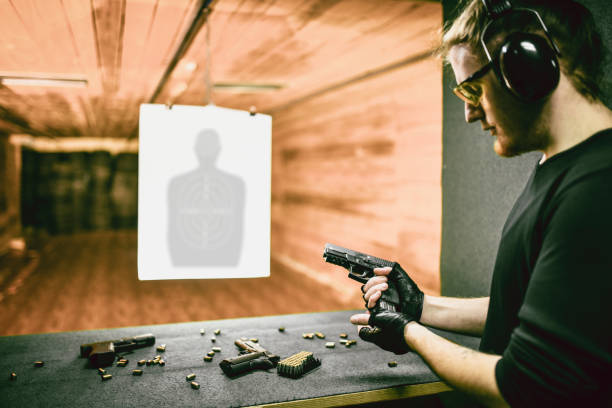gun: (321, 242, 396, 314), (79, 332, 156, 368), (219, 336, 282, 379)
